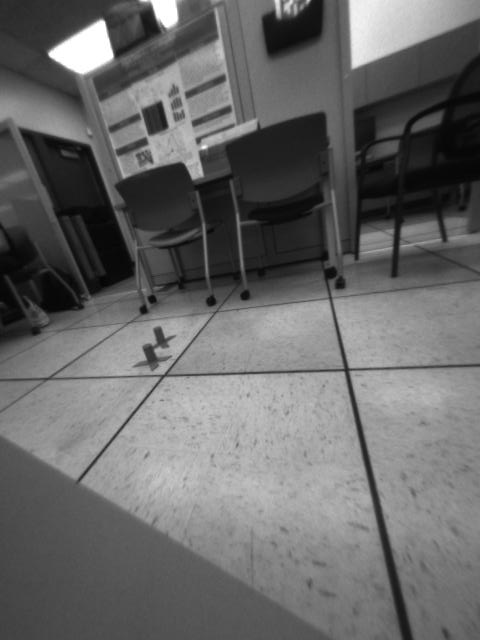X: (132, 341, 172, 371), (146, 323, 177, 350)
